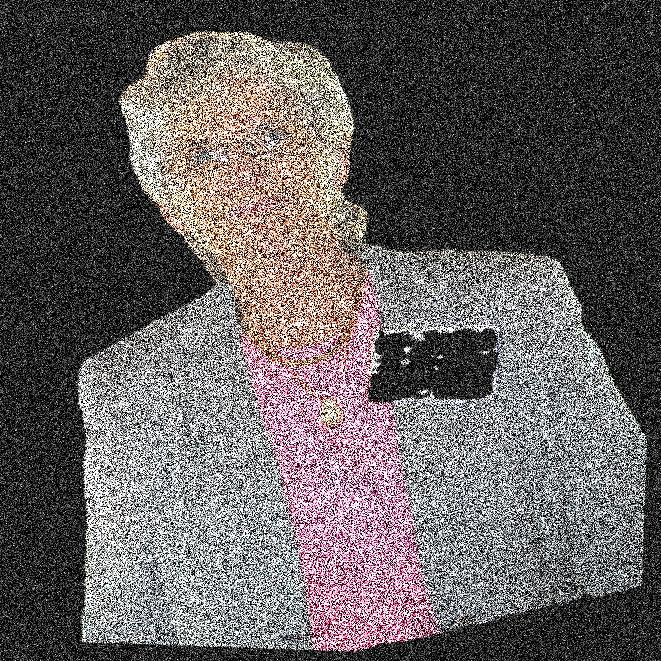Pessoa: (157, 0, 449, 660)
